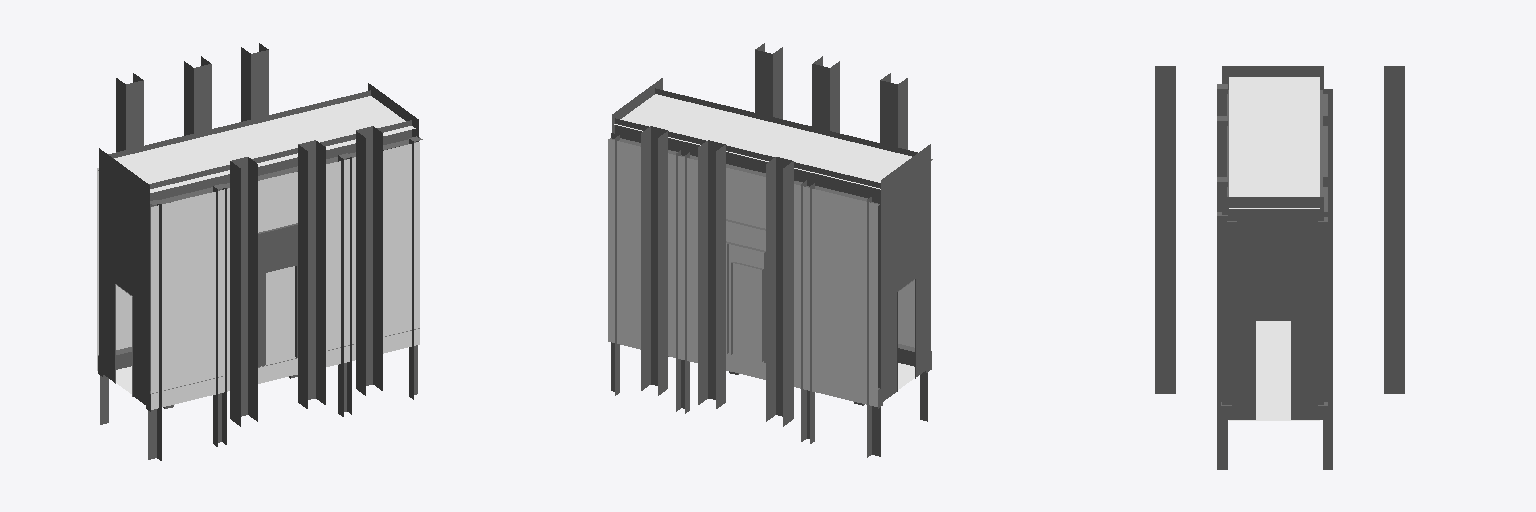
The model's file is Tunnel3.obj.
The picture shows the model from 3 angles: view 1: azimuth 30°, elevation 25°; view 2: azimuth 150°, elevation 25°; view 3: azimuth 270°, elevation 25°; orthographic projection.
Parts seen in each view (by area): view 1: Tunnel3; view 2: Tunnel3; view 3: Tunnel3.
Boxes of the visible parts, x1,y1,x2,y2 form: Tunnel3: [97, 43, 422, 460]; Tunnel3: [608, 43, 932, 457]; Tunnel3: [1155, 66, 1404, 469].
Bounding box in the file's own units: 7.69 × 8.25 × 6.12.